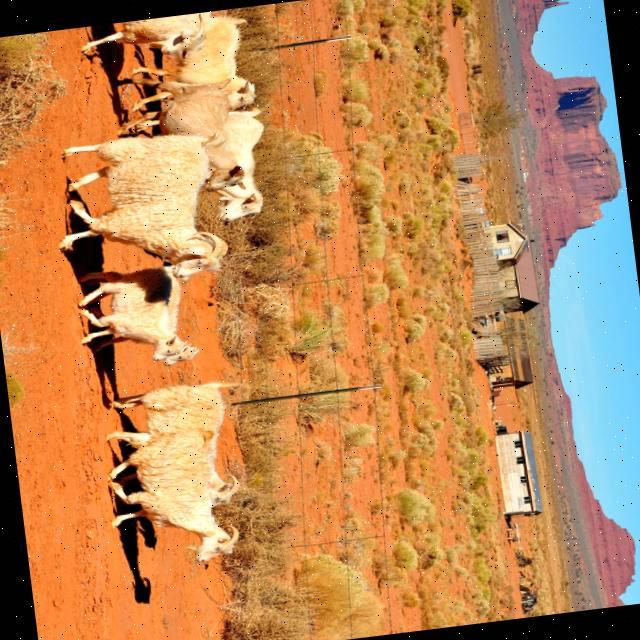sheep: (62, 135, 213, 272)
